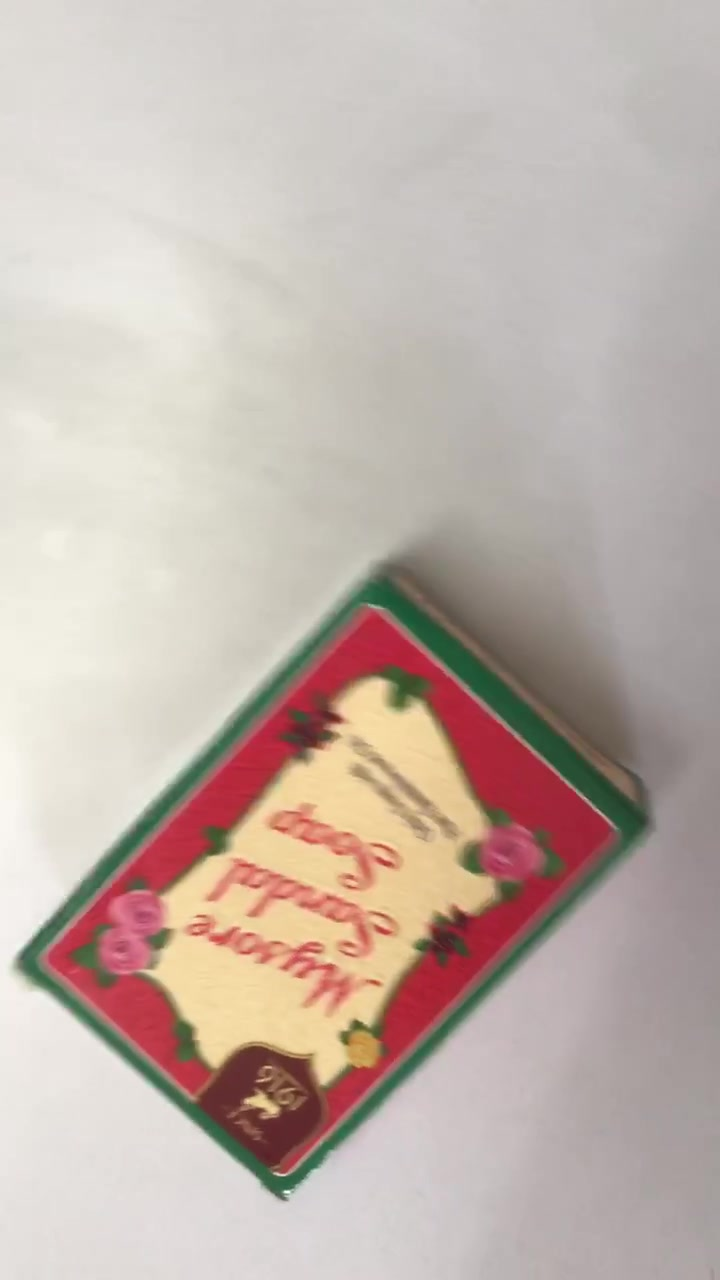mysore sandal soap: (20, 552, 652, 1202)
